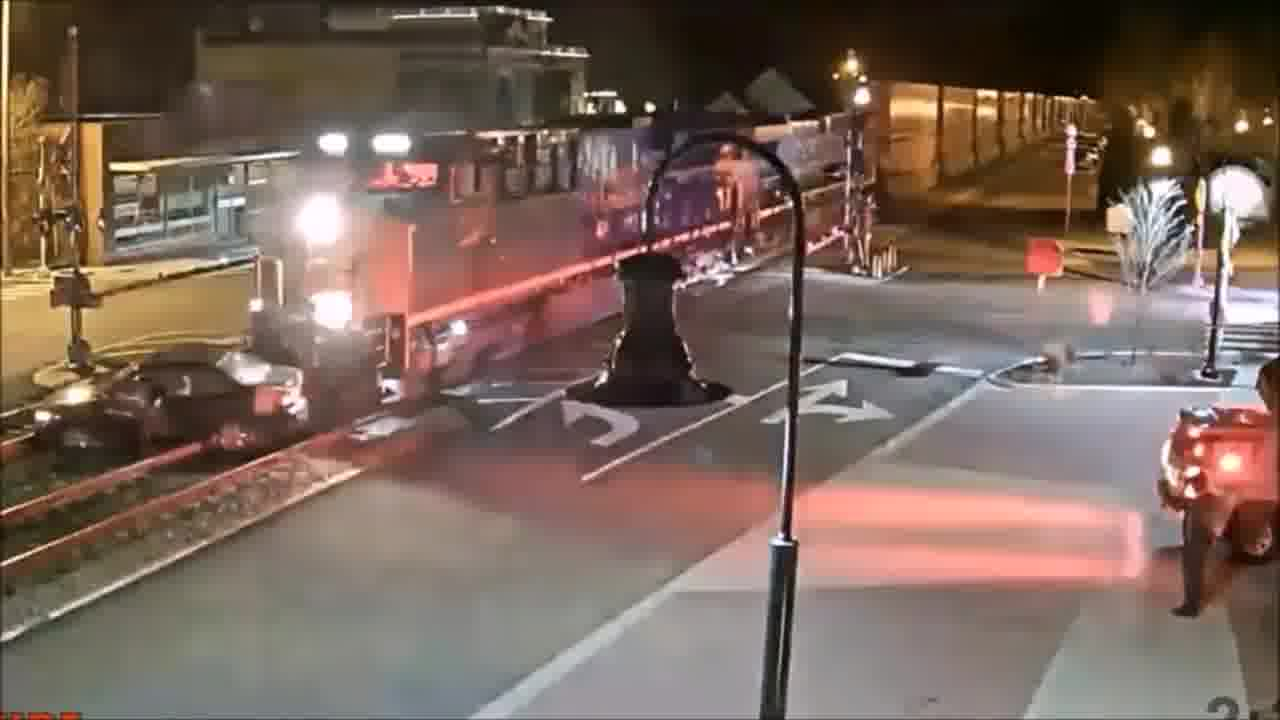crossing railway track: (23, 338, 312, 471)
